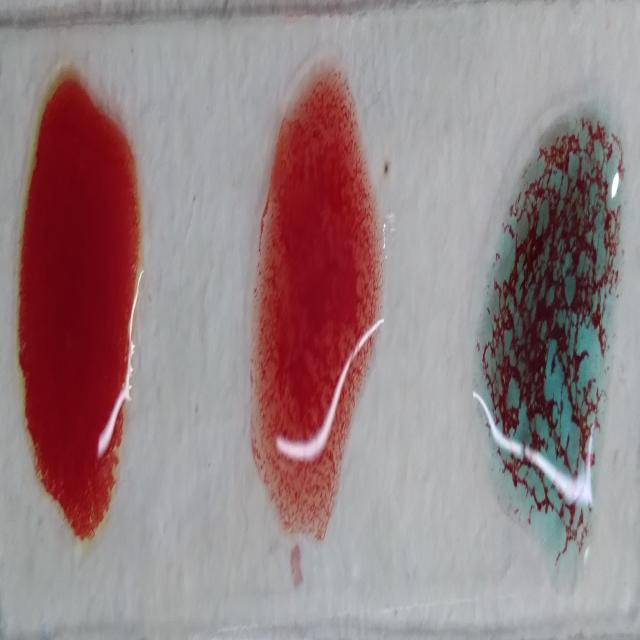A: (478, 111, 618, 591)
D: (264, 60, 375, 537)
